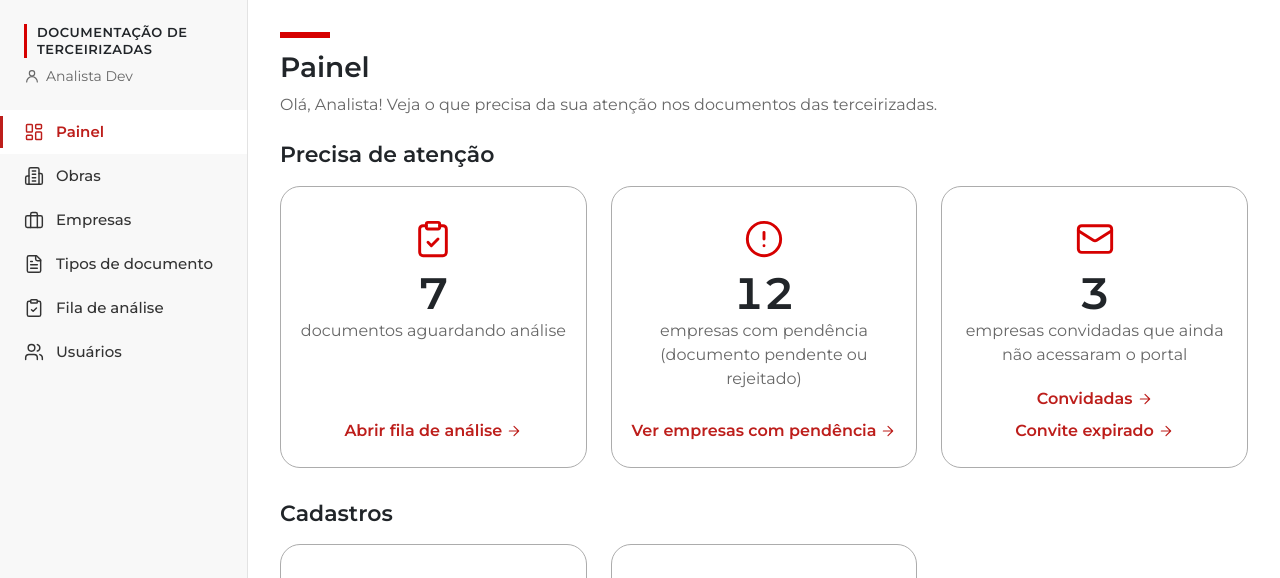
Painel › clicar em "empresas com pendência" abre a lista filtrada
Click the link "Ver empresas com pendência": {"x": 764, "y": 431} [632, 419, 896, 443]
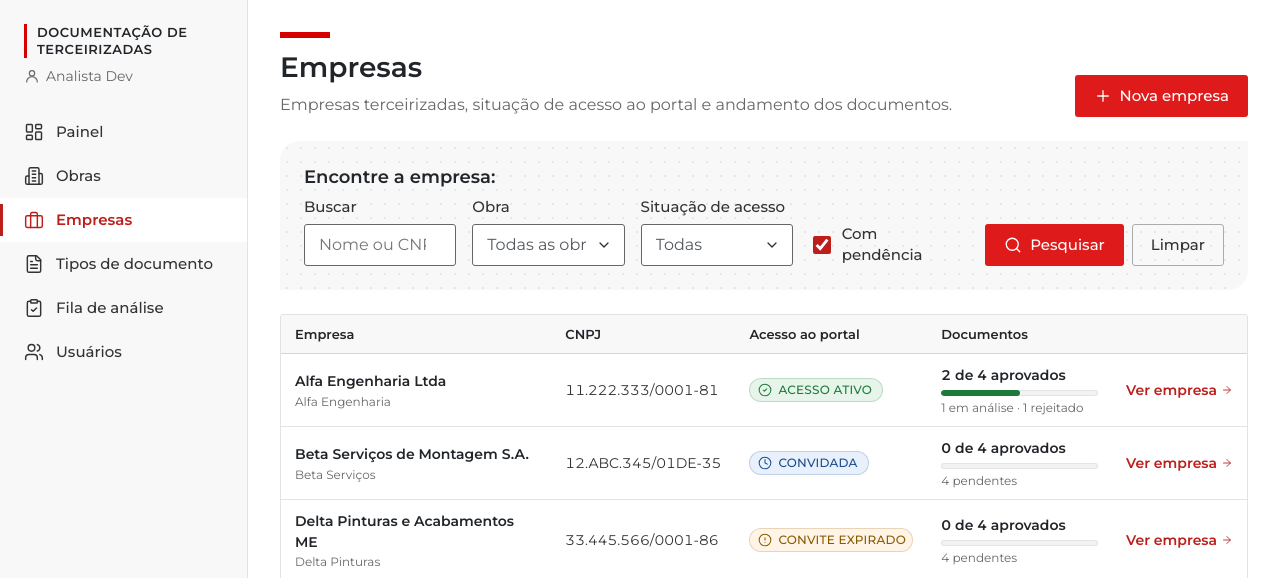
Now the heading "Empresas" is shown, box [280, 50, 422, 84]
Now the checkbox labelled "Com pendência" is checked, box [813, 236, 831, 254]
Now the link "Alfa Engenharia Ltda" is shown, box [295, 372, 446, 390]
